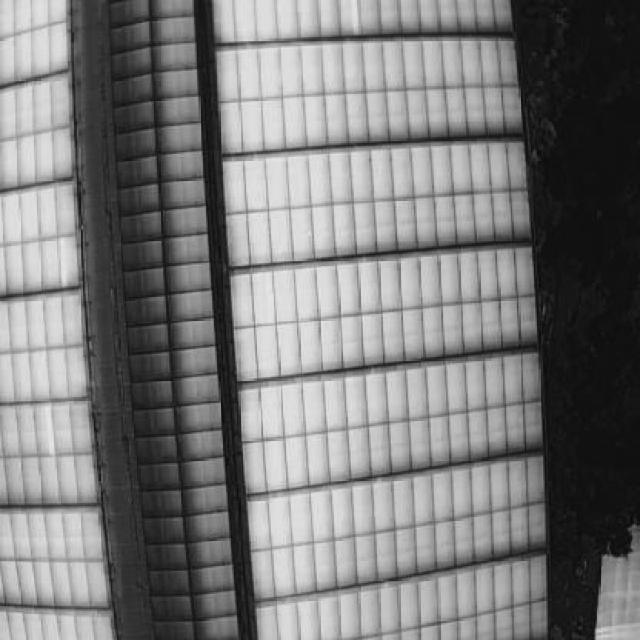diode: (46, 407, 56, 455), (60, 235, 68, 288)
